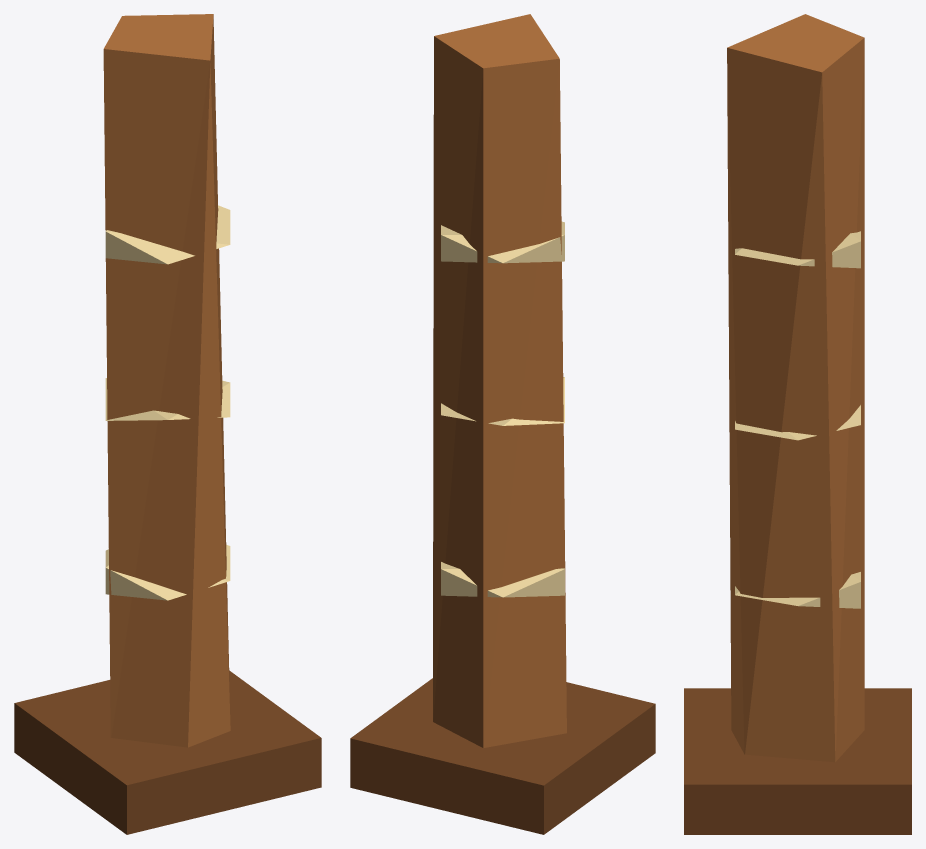
File: scratching_post.fbx
The picture shows the model from 3 angles, left to right: view 1: azimuth 30°, elevation 25°; view 2: azimuth 150°, elevation 25°; view 3: azimuth 270°, elevation 25°; orthographic projection.
Parts seen in each view (by area): view 1: scratching_post; view 2: scratching_post; view 3: scratching_post.
Part boxes in pixels (<box>): scratching_post: <box>14,14,321,834</box>; scratching_post: <box>350,14,655,834</box>; scratching_post: <box>684,14,911,834</box>.
Size of the model in its own units: 0.5 by 1.8 by 0.5.
